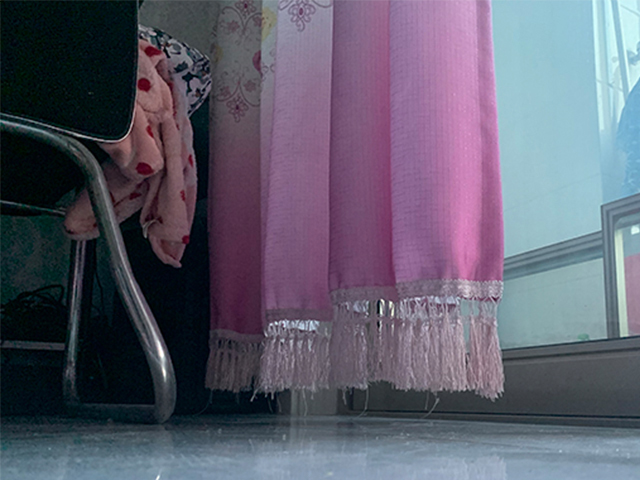curtain: (205, 1, 506, 401)
stool: (1, 1, 177, 424)
